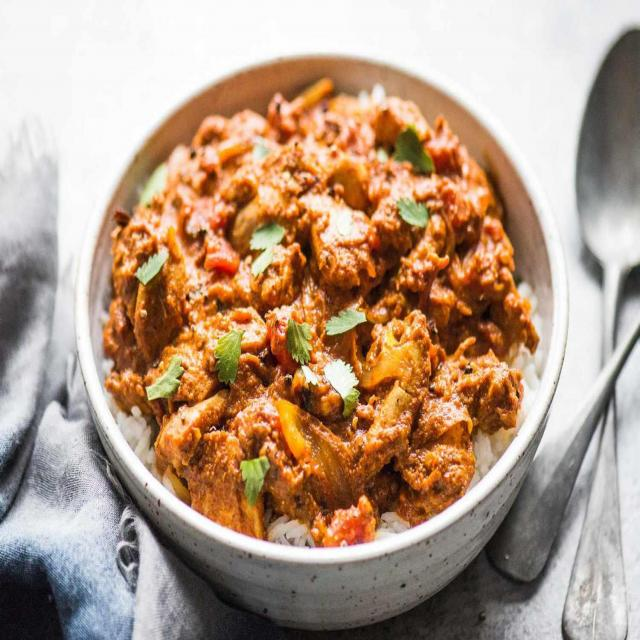chicken: (130, 136, 504, 506)
